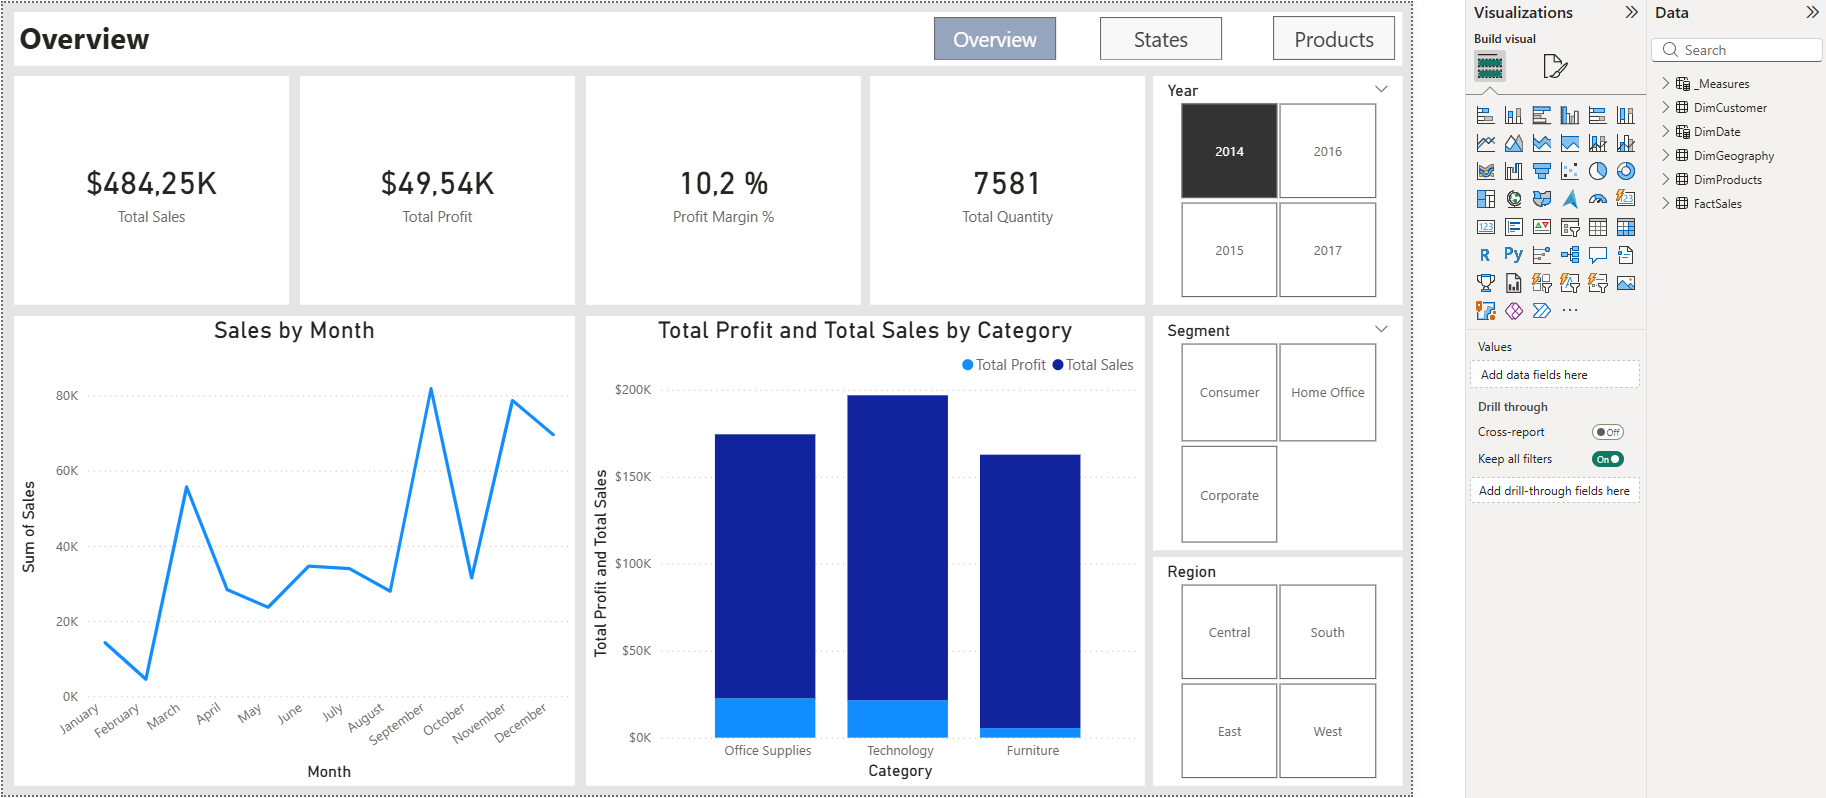

What the dashboard file says about the page in this screenshot:
{"tool":"powerbi","page":{"name":"Overview","canvas":[1280,720],"ordinal":0},"visuals":[{"type":"textbox","box":[10,7.8,1262.2,48.9],"z":0},{"type":"slicer","fields":{"Values":["DimDate.Year"]},"box":[1045.6,66.7,226.7,207.8],"z":1000},{"type":"card","fields":{"Values":["_Measures.Total Sales"]},"box":[10,66.7,250,207.8],"z":2000},{"type":"card","fields":{"Values":["_Measures.Total Profit"]},"box":[270,66.7,250,207.8],"z":3000},{"type":"card","fields":{"Values":["_Measures.Profit Margin %"]},"box":[530,66.7,250,207.8],"z":4000},{"type":"card","fields":{"Values":["_Measures.Total Quantity"]},"box":[787.8,66.7,250,207.8],"z":5000},{"type":"columnChart","fields":{"Y":["_Measures.Total Profit","_Measures.Total Sales"],"Category":["DimProducts.Category"]},"box":[530,284.4,507.8,426.7],"z":6000},{"type":"lineChart","title":"Sales by Month","fields":{"Category":["DimDate.Month"],"Y":["Sum(FactSales.Sales)"]},"box":[10,284.4,510,426.7],"z":7000},{"type":"slicer","fields":{"Values":["DimCustomer.Segment"]},"box":[1045.6,284.4,226.7,213.3],"z":8000},{"type":"slicer","fields":{"Values":["DimGeography.Region"]},"box":[1045.6,503.3,226.7,207.8],"z":9000},{"type":"actionButton","title":"Products","box":[1154.4,12.2,111.1,40],"z":10000},{"type":"actionButton","title":"Products","box":[997.6,12.5,111,39.4],"z":10001},{"type":"actionButton","title":"Products","box":[846.3,12.5,111,39.4],"z":10002}]}

Visuals, with their boxes on the page's 1280x720 design canvas (x1, y1, x2, y2). These are canvas units, not pixel positions in the 1826x798 screenshot, which may show the page scaled, cropped or inside an application window:
textbox: locate(10, 8, 1272, 57)
slicer - DimDate.Year: locate(1046, 67, 1272, 274)
card - _Measures.Total Sales: locate(10, 67, 260, 274)
card - _Measures.Total Profit: locate(270, 67, 520, 274)
card - _Measures.Profit Margin %: locate(530, 67, 780, 274)
card - _Measures.Total Quantity: locate(788, 67, 1038, 274)
columnChart - _Measures.Total Profit x _Measures.Total Sales: locate(530, 284, 1038, 711)
"Sales by Month" lineChart: locate(10, 284, 520, 711)
slicer - DimCustomer.Segment: locate(1046, 284, 1272, 498)
slicer - DimGeography.Region: locate(1046, 503, 1272, 711)
"Products" actionButton: locate(1154, 12, 1266, 52)
"Products" actionButton: locate(998, 12, 1109, 52)
"Products" actionButton: locate(846, 12, 957, 52)
